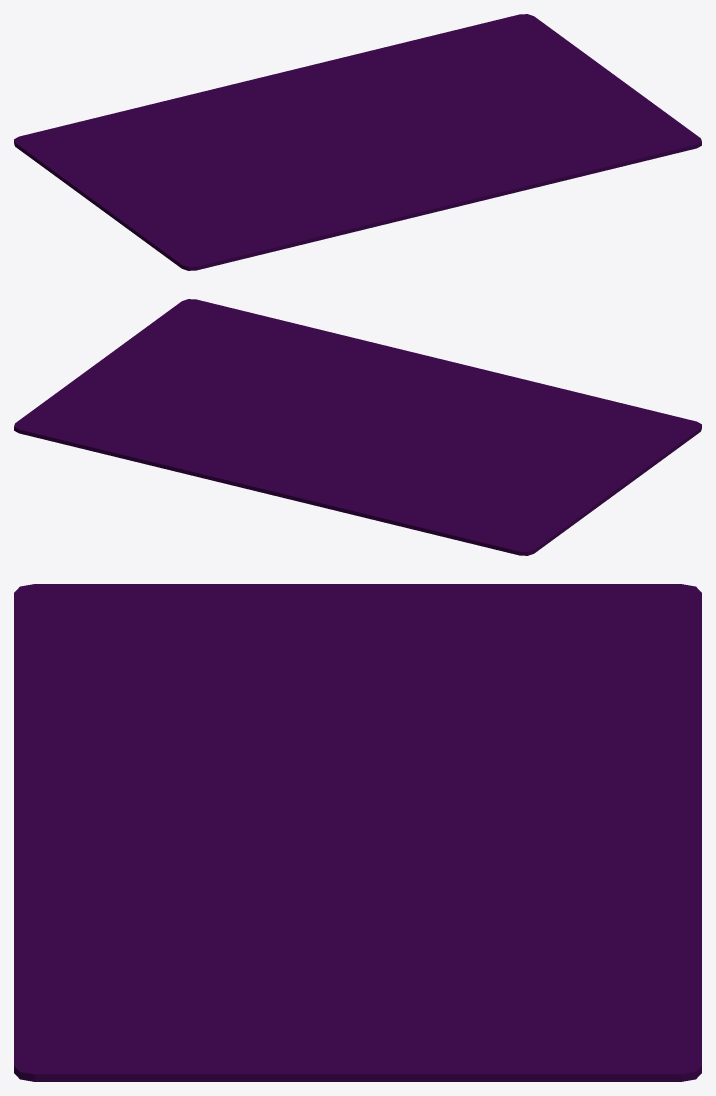
File: Hea_Player_Room_Curtain_Desk.fbx
The picture shows the model from 3 angles, top to bottom: view 1: azimuth 30°, elevation 25°; view 2: azimuth 150°, elevation 25°; view 3: azimuth 270°, elevation 25°; orthographic projection. The views are drawn at different scales.
Parts seen in each view (by area): view 1: Rug; view 2: Rug; view 3: Rug.
Part boxes in pixels (<box>): Rug: <box>14,14,701,270</box>; Rug: <box>14,299,701,555</box>; Rug: <box>14,584,701,1081</box>.
Size of the model in its own units: 329 by 2.36 by 195.
